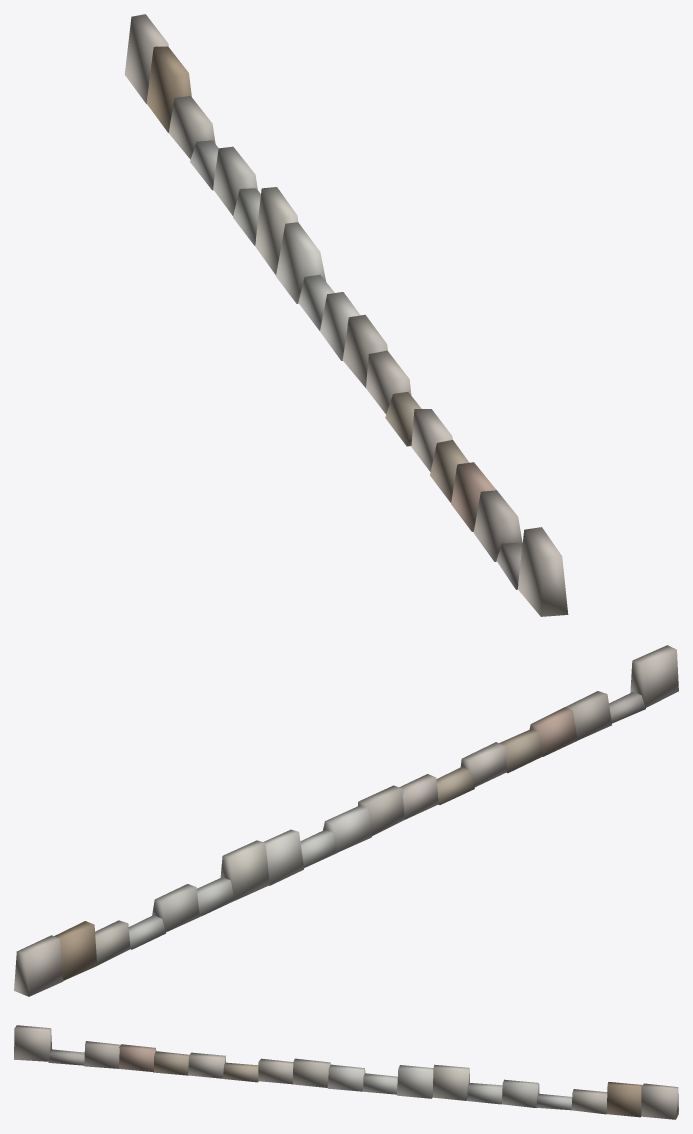
Rendered from farm_6_13_far.glb.
3 views of the same model, one above another, from view 1: azimuth 30°, elevation 25°; view 2: azimuth 150°, elevation 25°; view 3: azimuth 270°, elevation 25° (orthographic). The views are drawn at different scales.
Parts seen in each view (by area): view 1: geometry_0; view 2: geometry_0; view 3: geometry_0.
Part boxes in pixels (x1,y1,x2,y2): geometry_0: (124,14,568,616); geometry_0: (14,645,678,996); geometry_0: (14,1025,678,1119).
Size of the model in its own units: 6.91 by 1.52 by 29.47.
